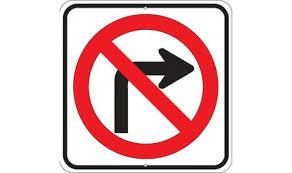no_right_turn: (73, 13, 218, 158)
